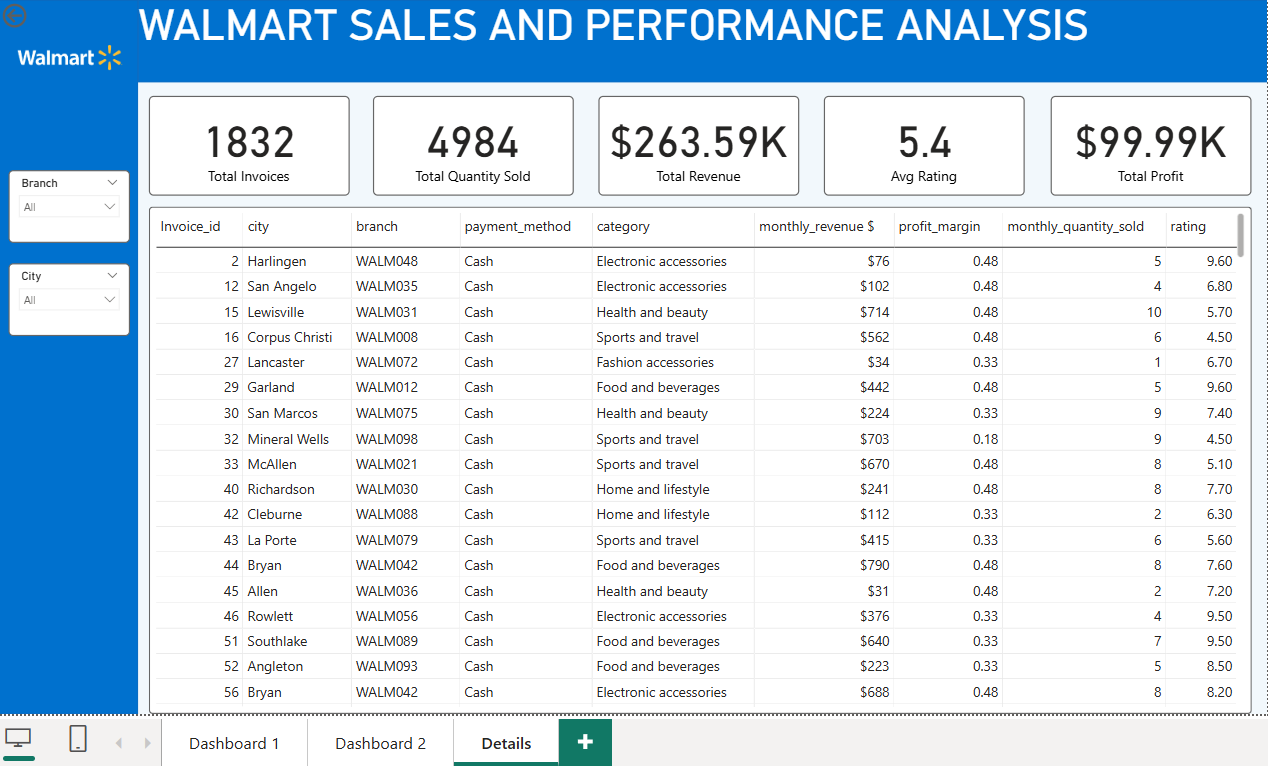

This screenshot's page, from the dashboard's own definition file:
{"tool":"powerbi","page":{"name":"Details","canvas":[1600,900],"ordinal":2},"visuals":[{"type":"shape","box":[175.4,0,1425.1,103.9],"z":0},{"type":"shape","box":[0,0,175.4,900.7],"z":1000},{"type":"card","fields":{"Values":["cleaned walmart data.Total Invoices"]},"box":[189,120.9,253.7,126],"z":2000},{"type":"card","fields":{"Values":["cleaned walmart data.Total Quantity Sold"]},"box":[471.6,120.9,253.7,126],"z":3000},{"type":"card","fields":{"Values":["cleaned walmart data.Total Revenue"]},"box":[756,120.9,253.7,126],"z":4000},{"type":"card","fields":{"Values":["cleaned walmart data.Avg Rating"]},"box":[1040.3,120.9,253.7,126],"z":5000},{"type":"card","fields":{"Values":["cleaned walmart data.Total Profit"]},"box":[1326.4,120.9,253.7,126],"z":6000},{"type":"tableEx","fields":{"Values":["cleaned walmart data.invoice_id","cleaned walmart data.City","cleaned walmart data.Branch","cleaned walmart data.payment_method","cleaned walmart data.category","cleaned walmart data.Monthly Revenue","cleaned walmart data.profit_margin","cleaned walmart data.Monthly Quantity","cleaned walmart data.rating"]},"box":[189,260.5,1391.1,640.2],"z":7000},{"type":"actionButton","box":[0,0,100,40],"z":8000},{"type":"slicer","fields":{"Values":["cleaned walmart data.Branch"]},"box":[11.9,214.8,153.2,91.9],"z":8001},{"type":"slicer","fields":{"Values":["cleaned walmart data.City"]},"box":[11.9,332.6,153.2,91.9],"z":8002},{"type":"image","box":[1.7,0,175.4,144.7],"z":8003}]}

Visuals, with their boxes on the page's 1600x900 design canvas (x1, y1, x2, y2). These are canvas units, not pixel positions in the 1268x766 screenshot, which may show the page scaled, cropped or inside an application window:
shape: x1=175 y1=0 x2=1600 y2=104
shape: x1=0 y1=0 x2=175 y2=901
card - cleaned walmart data.Total Invoices: x1=189 y1=121 x2=443 y2=247
card - cleaned walmart data.Total Quantity Sold: x1=472 y1=121 x2=725 y2=247
card - cleaned walmart data.Total Revenue: x1=756 y1=121 x2=1010 y2=247
card - cleaned walmart data.Avg Rating: x1=1040 y1=121 x2=1294 y2=247
card - cleaned walmart data.Total Profit: x1=1326 y1=121 x2=1580 y2=247
tableEx - cleaned walmart data.invoice_id x cleaned walmart data.City: x1=189 y1=260 x2=1580 y2=901
actionButton: x1=0 y1=0 x2=100 y2=40
slicer - cleaned walmart data.Branch: x1=12 y1=215 x2=165 y2=307
slicer - cleaned walmart data.City: x1=12 y1=333 x2=165 y2=424
image: x1=2 y1=0 x2=177 y2=145
